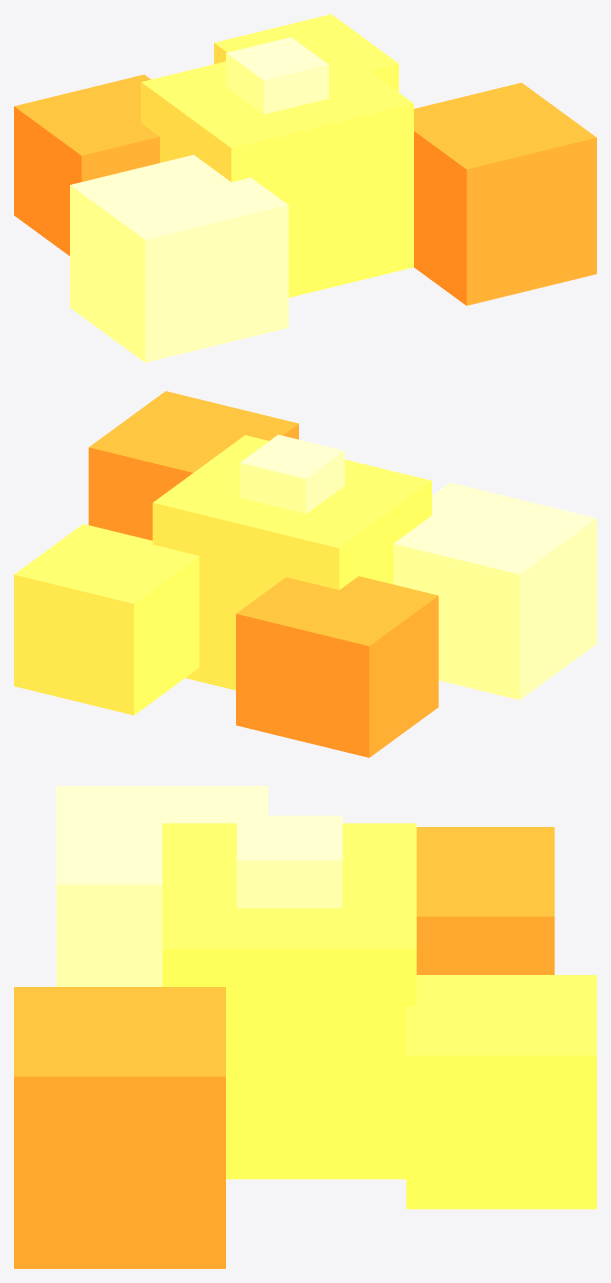
The model's file is ember-coals.glb.
The picture shows the model from 3 angles, top to bottom: view 1: azimuth 30°, elevation 25°; view 2: azimuth 150°, elevation 25°; view 3: azimuth 270°, elevation 25°; orthographic projection. The views are drawn at different scales.
Visible parts, largest first — view 1: built-ember-coals; view 2: built-ember-coals; view 3: built-ember-coals.
Part boxes in pixels (left/top/right/bottom): built-ember-coals: left=14, top=14, right=596, bottom=362; built-ember-coals: left=14, top=391, right=596, bottom=757; built-ember-coals: left=14, top=786, right=596, bottom=1268.
Bounding box in the file's own units: 0.335 × 0.145 × 0.275.
